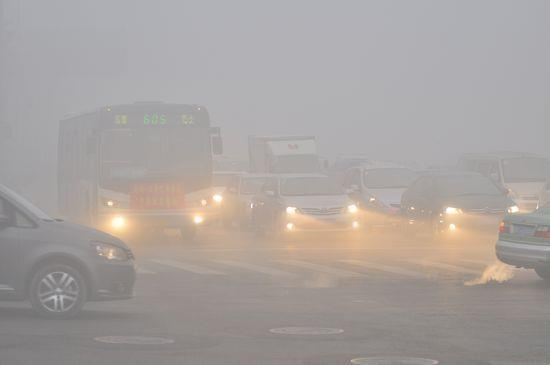bus: (55, 97, 224, 242), (244, 133, 330, 210)
car: (1, 181, 137, 319), (399, 171, 521, 238), (253, 173, 359, 238), (455, 148, 550, 219), (338, 164, 426, 227), (494, 195, 550, 279), (218, 174, 287, 230)
